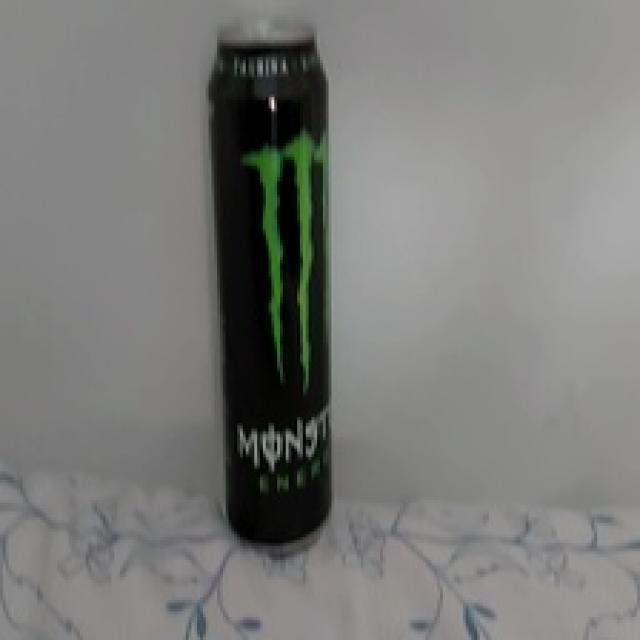recyclable: (207, 24, 333, 562)
